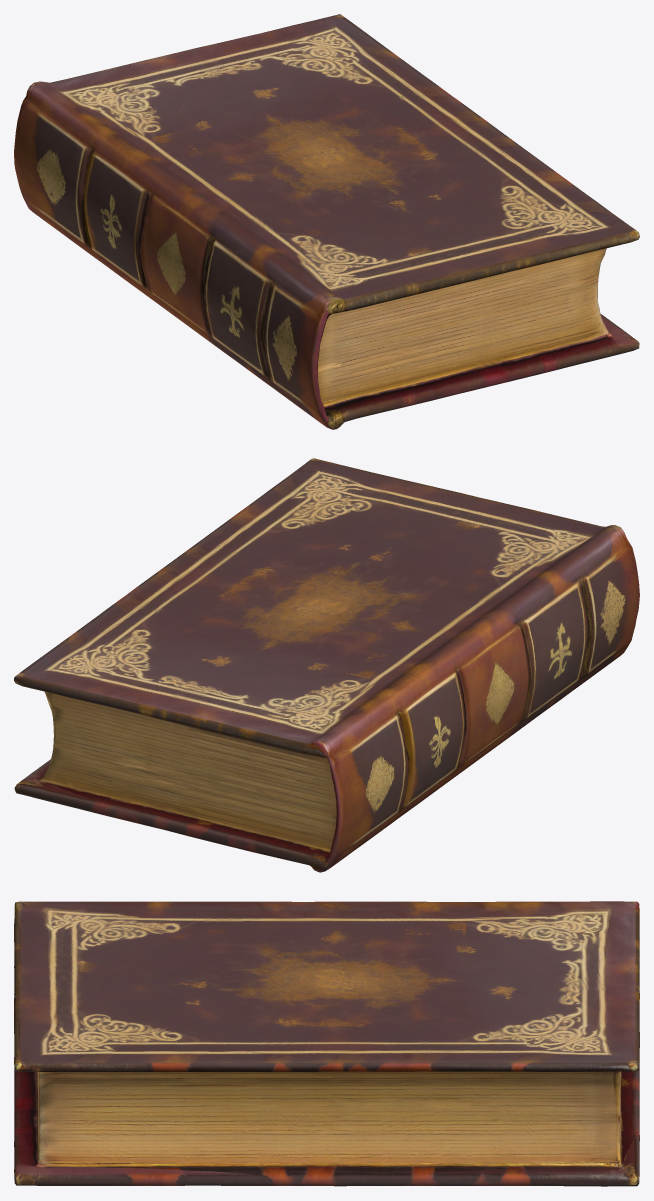
The model's file is antique_book.glb.
3 renders of one model, top to bottom at view 1: azimuth 30°, elevation 25°; view 2: azimuth 150°, elevation 25°; view 3: azimuth 270°, elevation 25°, orthographic. The views are drawn at different scales.
Bounding box in the file's own units: 1.27 × 0.4819 × 2.
1 material, 1 textured.
